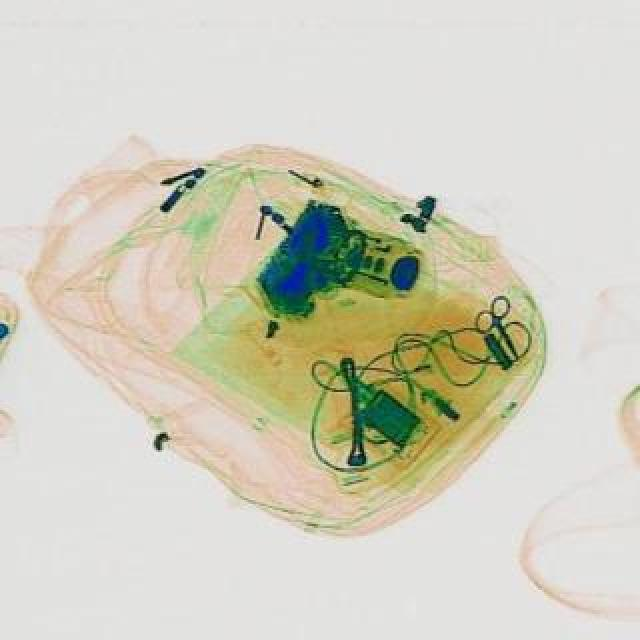pliers: (462, 292, 536, 368)
